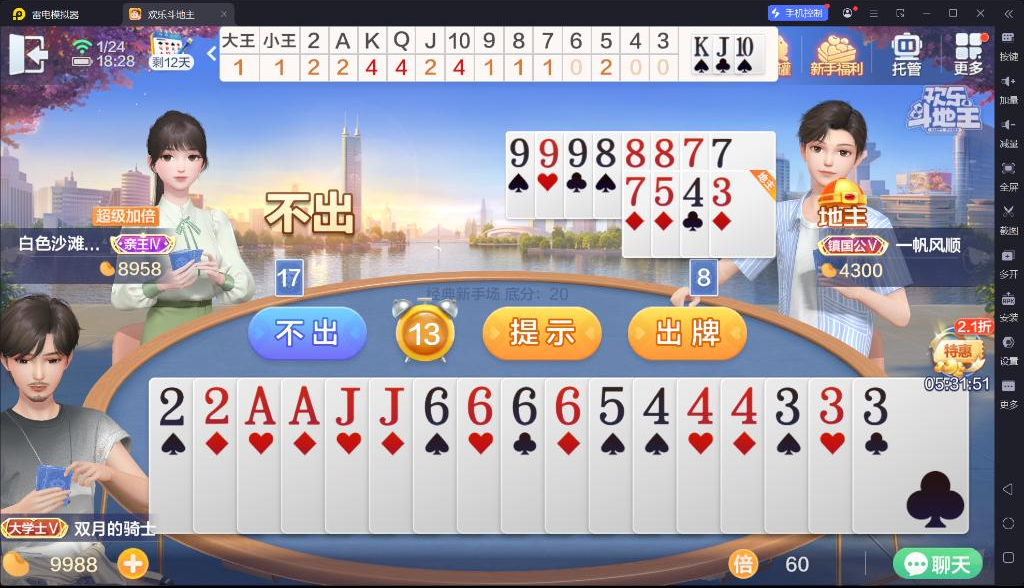A: (243, 383, 277, 427), (286, 383, 320, 427)
J: (375, 384, 407, 428), (331, 384, 363, 427), (715, 36, 730, 57)
K: (694, 35, 711, 58)
eight: (623, 135, 647, 169), (593, 135, 616, 169), (653, 135, 676, 168)
five: (596, 383, 627, 426), (652, 175, 674, 207)
four: (639, 384, 673, 427), (727, 383, 760, 425), (684, 383, 716, 425), (681, 176, 705, 209)
nine: (507, 135, 531, 169), (538, 135, 561, 169), (566, 135, 589, 168)
seven: (710, 134, 734, 170), (681, 134, 705, 169), (623, 175, 646, 207)
six: (553, 383, 584, 427), (509, 384, 540, 427), (464, 383, 494, 426), (420, 384, 450, 427)
ten: (735, 36, 755, 57)
three: (770, 384, 802, 427), (815, 383, 846, 426), (860, 383, 890, 427), (711, 175, 733, 207)
two: (156, 383, 188, 429), (200, 384, 234, 427)
